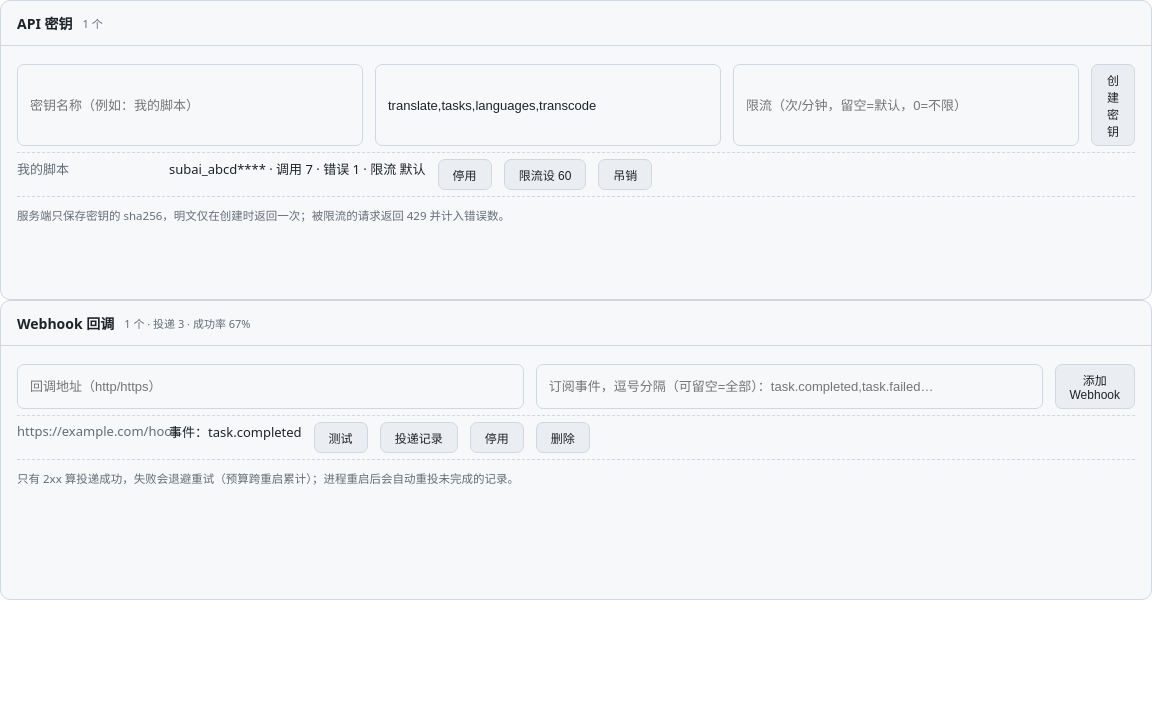
Scenario: OpenPlatformPage › 创建密钥后明文只显示一次
Check: the text "subai_abcd**** · 调用 7 · 错误 1 · 限流 默认" is shown, box [169,160,426,178]
Type "我的脚本" into the field with placeholder "密钥名称（例如：我的脚本）" at [190, 105], box [17,64,363,146]
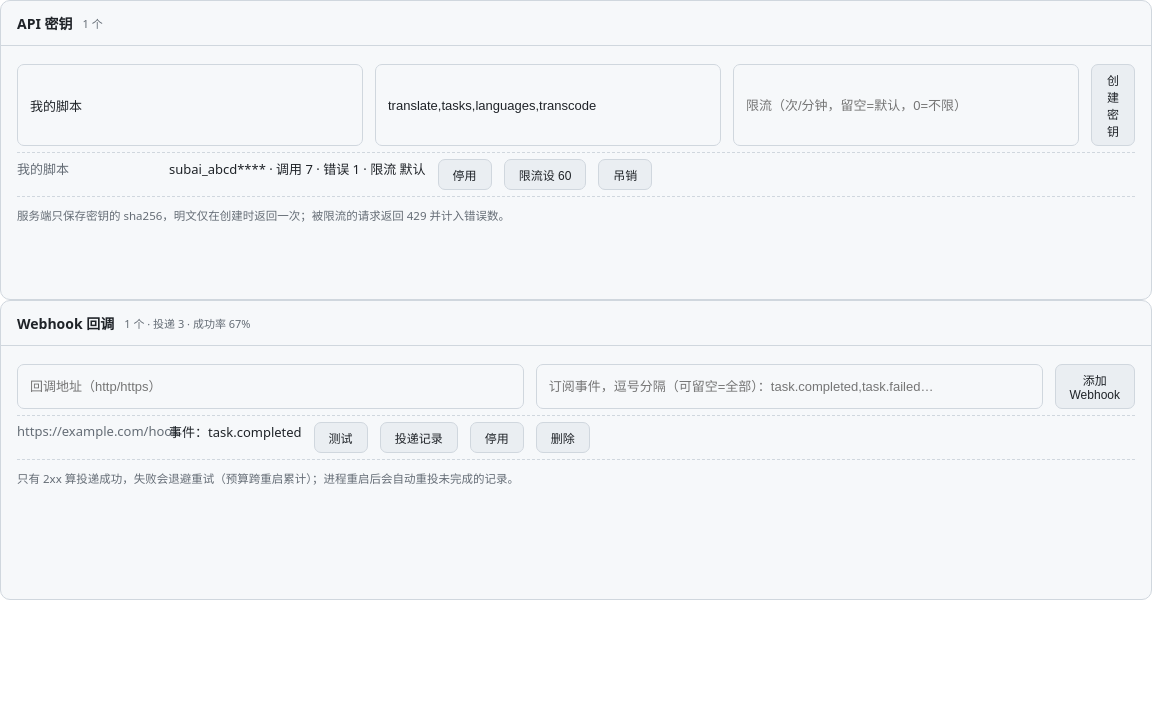
Click the button "创建密钥" at [1113, 105], box [1091,64,1135,146]
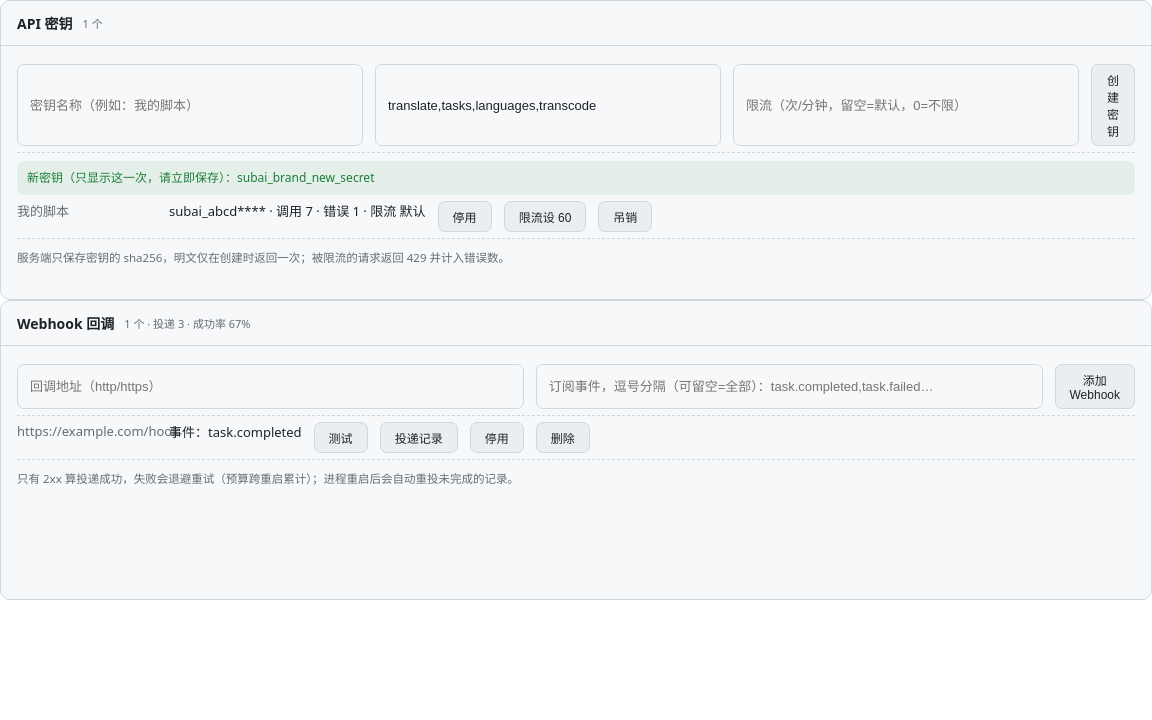
Check: the text "新密钥（只显示这一次，请立即保存）：subai_brand_new_secret" is shown, box [17,161,1135,195]
